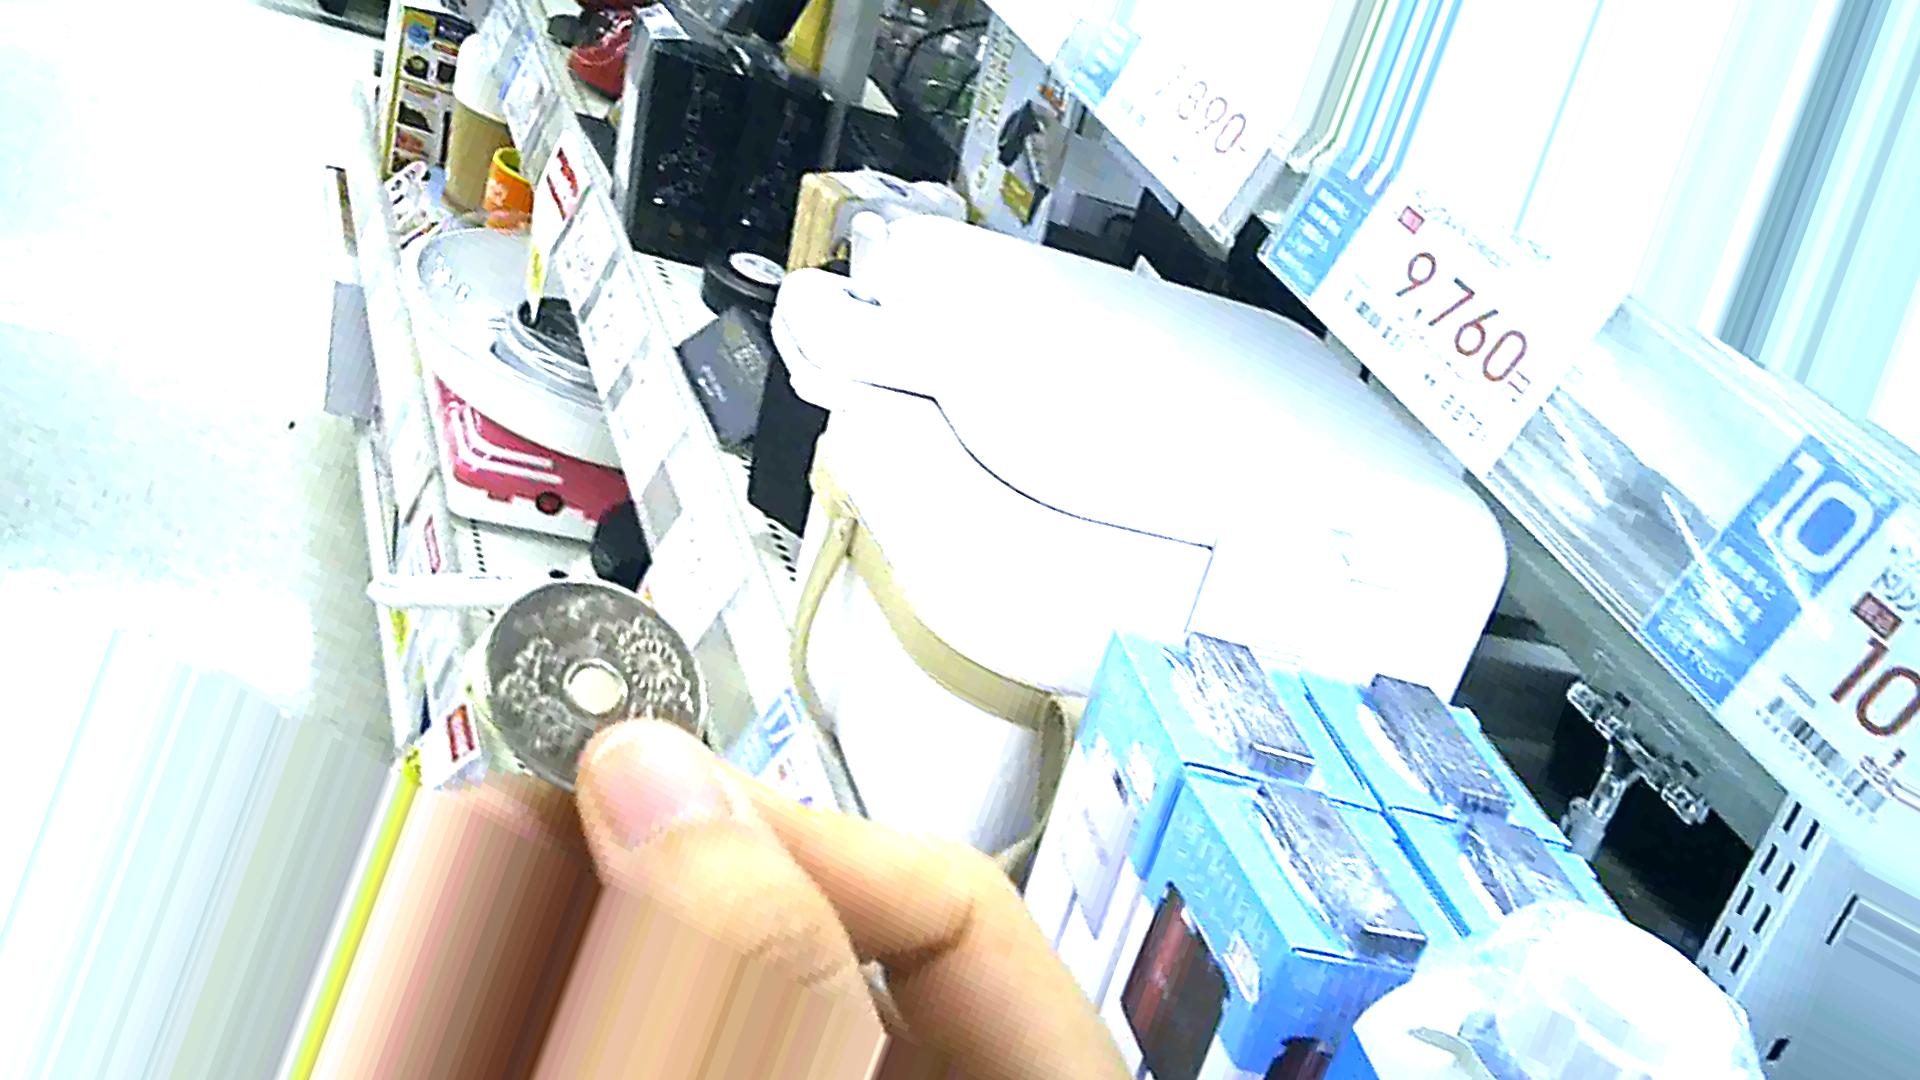50 Yen: (468, 587, 703, 803)
